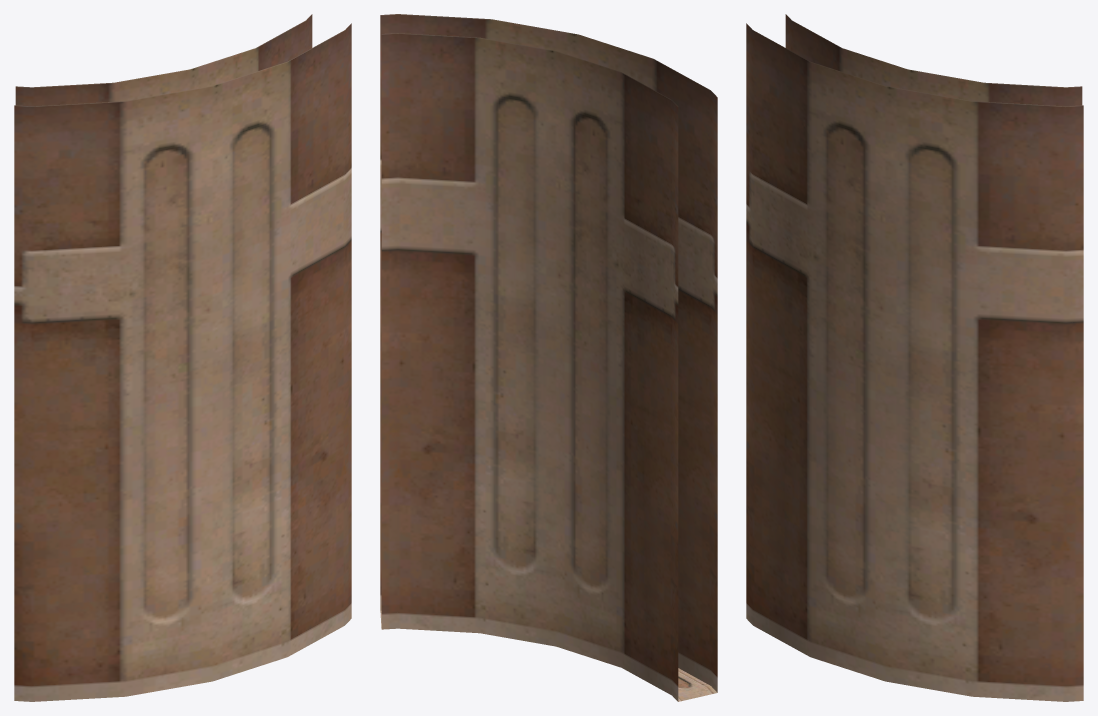
The model's file is door_nboo_emp_s07.fbx.
The picture shows the model from 3 angles, left to right: view 1: azimuth 30°, elevation 25°; view 2: azimuth 150°, elevation 25°; view 3: azimuth 330°, elevation 25°; orthographic projection.
Visible parts, largest first — view 1: mesh_node; view 2: mesh_node; view 3: mesh_node.
Part boxes in pixels (<box>): mesh_node: <box>14,14,351,701</box>; mesh_node: <box>380,14,717,701</box>; mesh_node: <box>746,14,1083,701</box>.
Bounding box in the file's own units: 2.58 × 4.36 × 0.6481.
